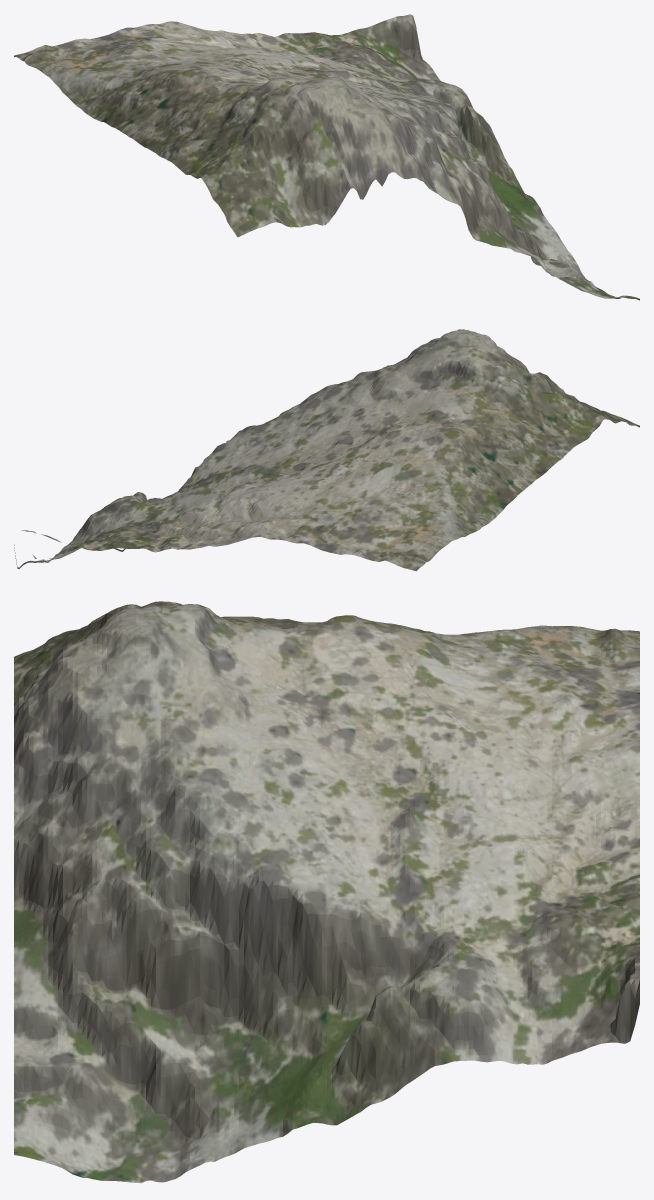
The picture shows the model from 3 angles, top to bottom: view 1: azimuth 30°, elevation 25°; view 2: azimuth 150°, elevation 25°; view 3: azimuth 270°, elevation 25°; orthographic projection. The views are drawn at different scales.
Size of the model in its own units: 250 by 162 by 241.
1 material, 1 textured.
